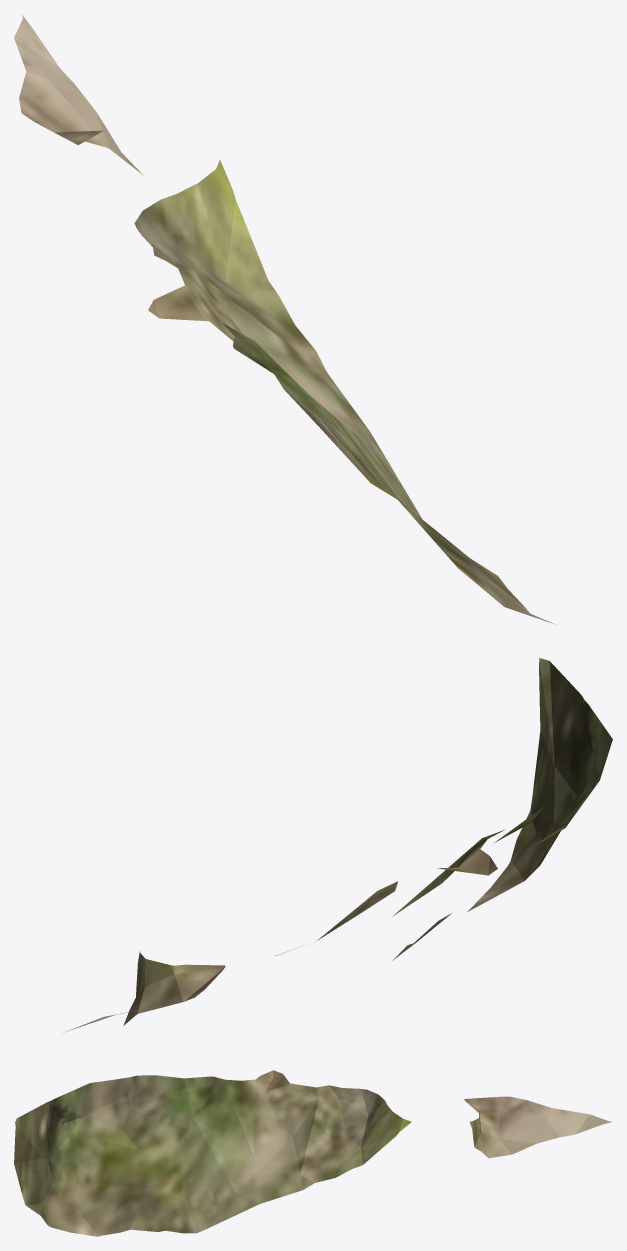
The picture shows the model from 3 angles, top to bottom: view 1: azimuth 30°, elevation 25°; view 2: azimuth 150°, elevation 25°; view 3: azimuth 270°, elevation 25°; orthographic projection. The views are drawn at different scales.
Size of the model in its own units: 0.4042 by 0.4202 by 1.98.
1 material, 1 textured.
